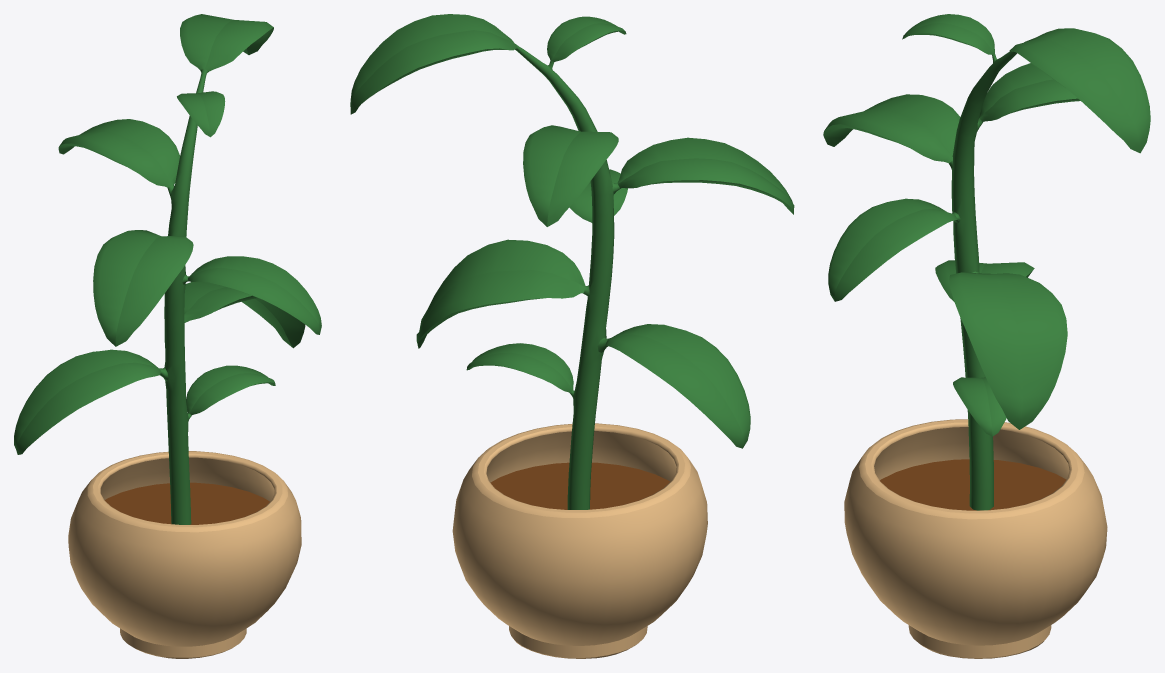
The model's file is Plant_2.fbx.
3 renders of one model, left to right at view 1: azimuth 30°, elevation 25°; view 2: azimuth 150°, elevation 25°; view 3: azimuth 270°, elevation 25°, orthographic. The views are drawn at different scales.
Visible parts, largest first — view 1: Plant_2; view 2: Plant_2; view 3: Plant_2.
Boxes of the visible parts, x1,y1,x2,y2 form: Plant_2: (14,14,321,658); Plant_2: (350,14,794,658); Plant_2: (823,14,1150,658).
Size of the model in its own units: 0.7419 by 1.3 by 0.6167.
